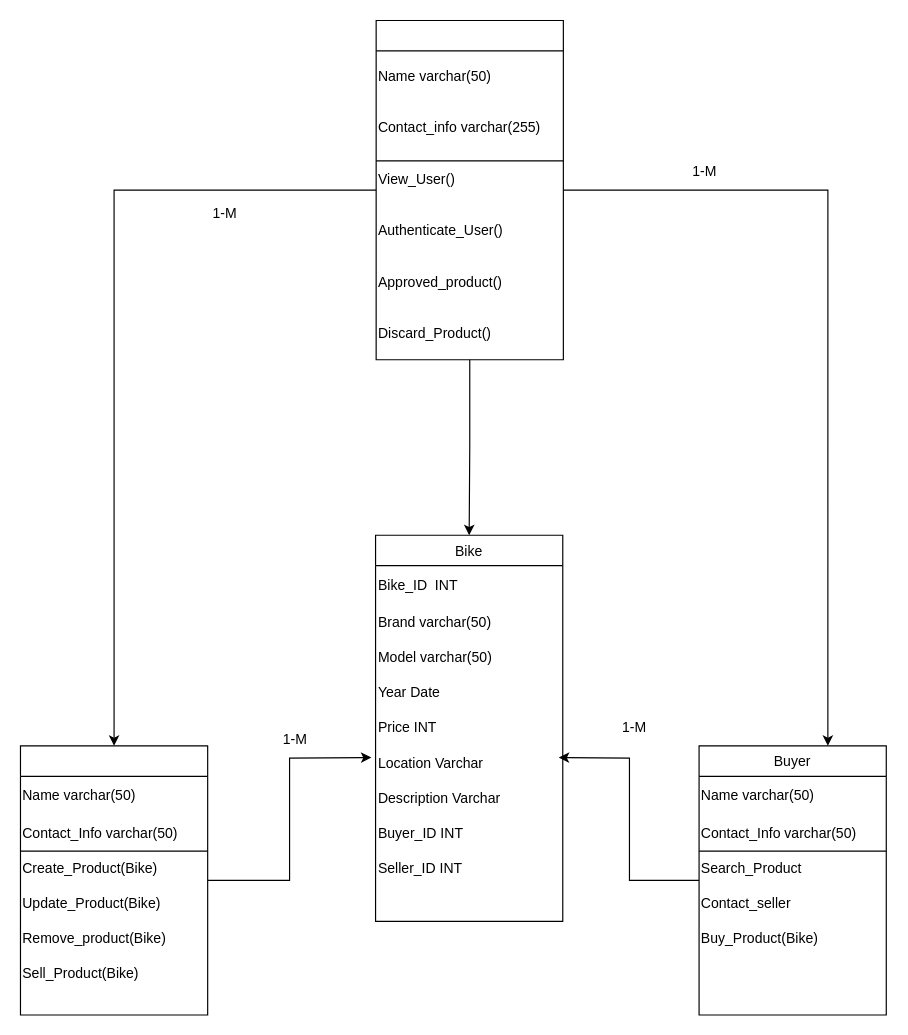
Image size: 908x1035. Some labels were removed from this diagram. Each missing label, with the box of its shape:
Admin: (375, 19, 563, 360)
Seller: (19, 745, 208, 1015)
